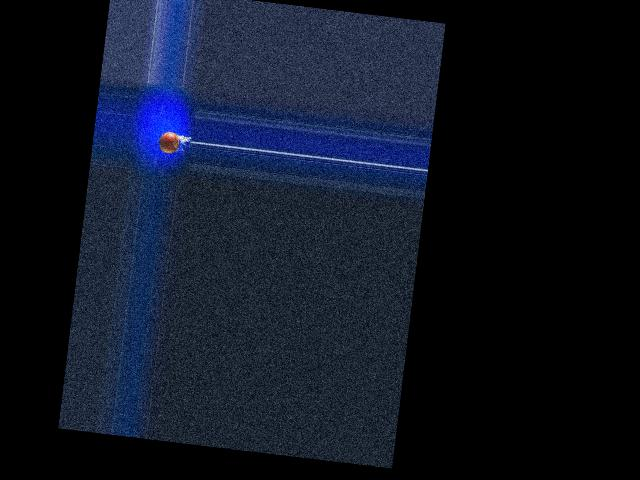tomato: (158, 131, 180, 154)
